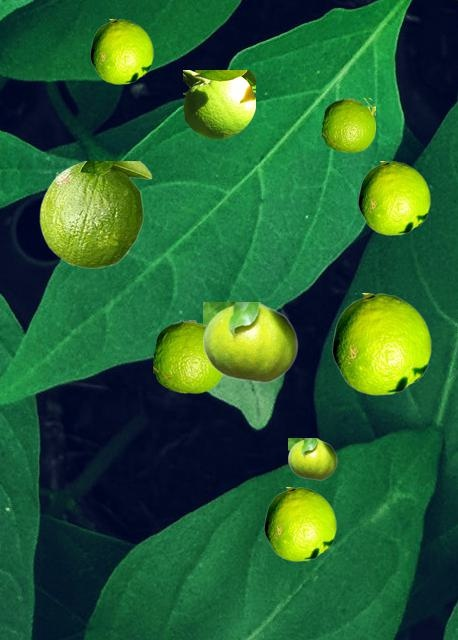dalandan: (39, 161, 151, 267), (332, 293, 430, 394), (203, 302, 297, 382), (264, 487, 335, 560), (358, 161, 429, 234), (153, 320, 222, 392), (183, 70, 254, 137), (90, 19, 152, 83), (322, 98, 374, 151), (288, 438, 336, 479)
